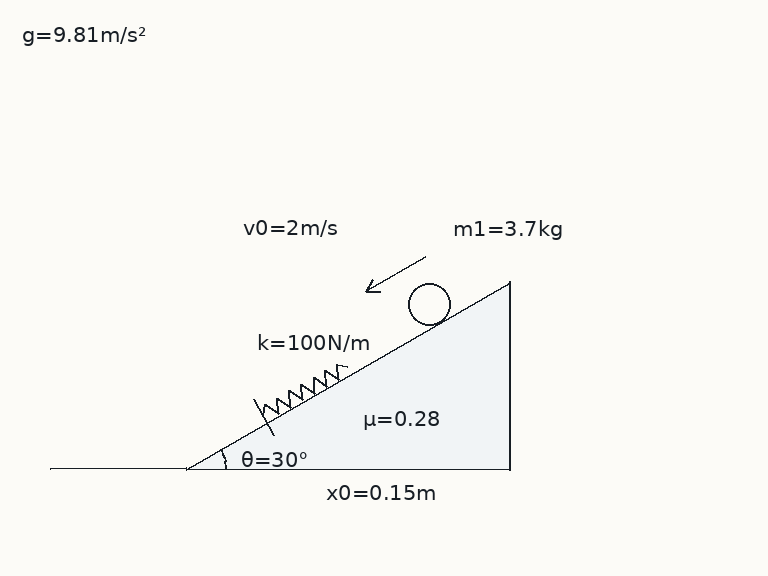ball: (406, 281, 452, 327)
ramp: (184, 280, 512, 471)
spring: (260, 361, 349, 416)
